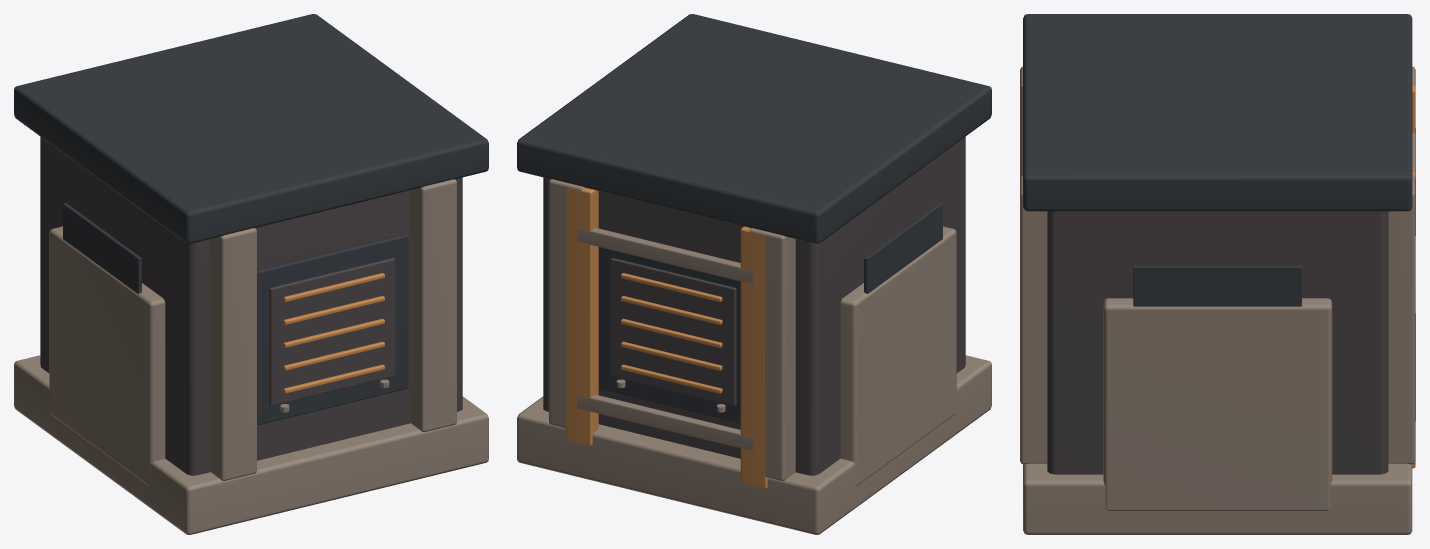
The model's file is uplink-0.glb.
The picture shows the model from 3 angles, left to right: view 1: azimuth 30°, elevation 25°; view 2: azimuth 150°, elevation 25°; view 3: azimuth 270°, elevation 25°; orthographic projection. The views are drawn at different scales.
Parts seen in each view (by area): view 1: uplink_2, uplink_1, uplink_0, uplink_3; view 2: uplink_2, uplink_1, uplink_0, uplink_3; view 3: uplink_2, uplink_1, uplink_0.
Boxes of the visible parts, x1,y1,x2,y2 form: uplink_2: (14, 14, 488, 425); uplink_1: (14, 179, 488, 534); uplink_0: (40, 136, 462, 475); uplink_3: (283, 273, 384, 393); uplink_2: (517, 14, 991, 423); uplink_1: (517, 179, 991, 534); uplink_0: (543, 136, 965, 475); uplink_3: (565, 188, 767, 488); uplink_2: (1023, 14, 1412, 306); uplink_1: (1020, 66, 1415, 534); uplink_0: (1047, 211, 1388, 474).
Bounding box in the file's own units: 0.975 × 0.99 × 0.986.
